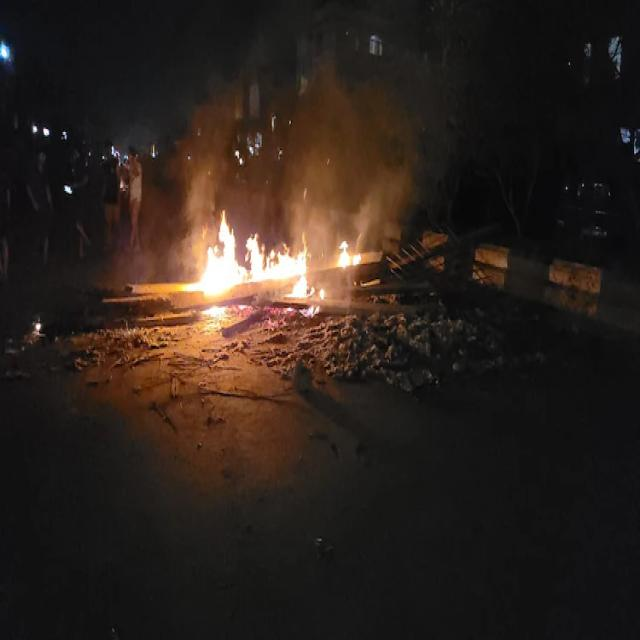fire: (200, 207, 314, 301)
